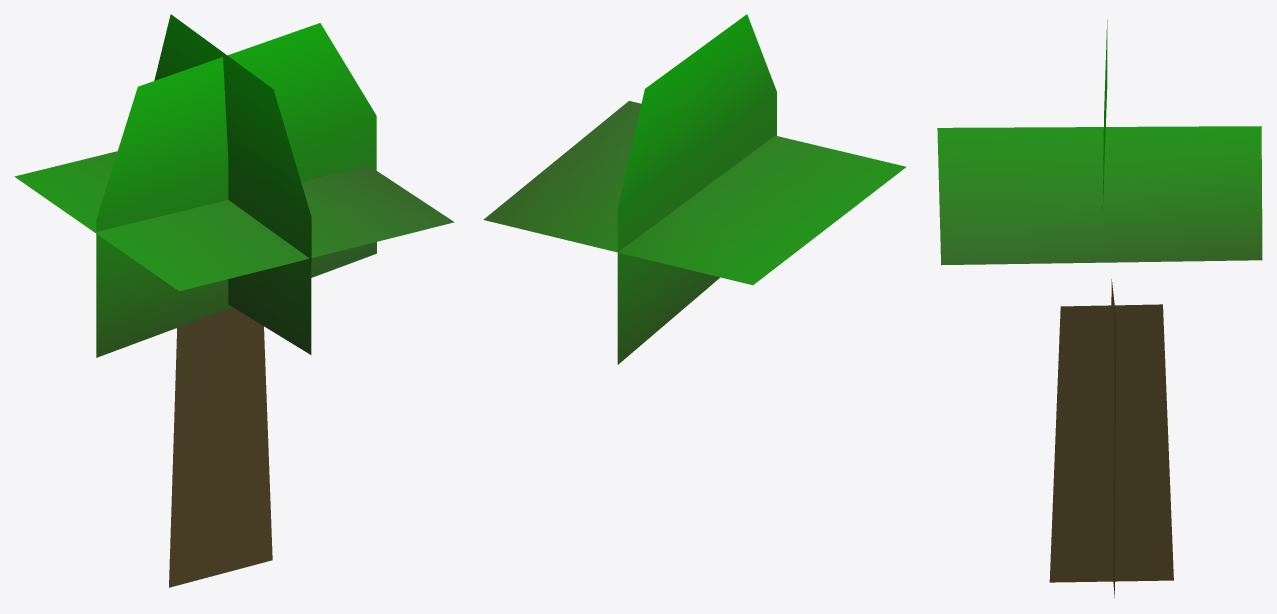
The model's file is tree-forest-lod0.glb.
The picture shows the model from 3 angles, left to right: view 1: azimuth 30°, elevation 25°; view 2: azimuth 150°, elevation 25°; view 3: azimuth 270°, elevation 25°; orthographic projection.
Parts seen in each view (by area): view 1: Cube.002; view 2: Cube.002; view 3: Cube.002.
Part boxes in pixels (bbox=[...]): Cube.002: bbox=[14, 14, 454, 587]; Cube.002: bbox=[483, 14, 906, 364]; Cube.002: bbox=[937, 20, 1262, 597].
Size of the model in its own units: 6.34 by 11.38 by 6.22.
